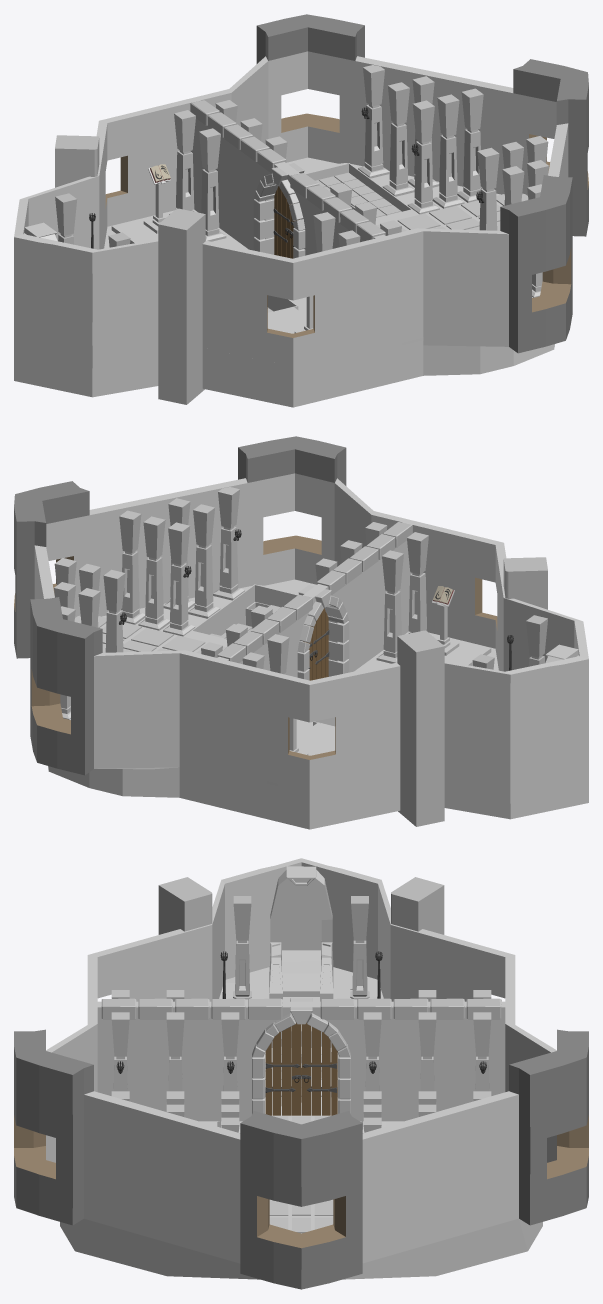
File: secondfloor.fbx
3 renders of one model, top to bottom at view 1: azimuth 30°, elevation 25°; view 2: azimuth 150°, elevation 25°; view 3: azimuth 270°, elevation 25°, orthographic. The views are drawn at different scales.
Parts seen in each view (by area): view 1: SecondFloor, WALL3, WALL1, WALL2, lvl8; view 2: SecondFloor, WALL3, WALL2, WALL1; view 3: SecondFloor, WALL1, WALL2, WALL3.
Boxes of the visible parts, x1,y1,x2,y2 form: SecondFloor: [24, 65, 554, 407]; WALL3: [14, 121, 293, 407]; WALL1: [229, 14, 587, 195]; WALL2: [417, 72, 588, 353]; lvl8: [315, 172, 401, 217]; SecondFloor: [48, 487, 578, 829]; WALL3: [309, 543, 588, 829]; WALL2: [15, 436, 373, 617]; WALL1: [14, 494, 185, 775]; SecondFloor: [60, 866, 542, 1279]; WALL1: [301, 1024, 588, 1289]; WALL2: [14, 1024, 301, 1289]; WALL3: [88, 858, 514, 1001].
Bounding box in the file's own units: 375 × 109 × 295.
